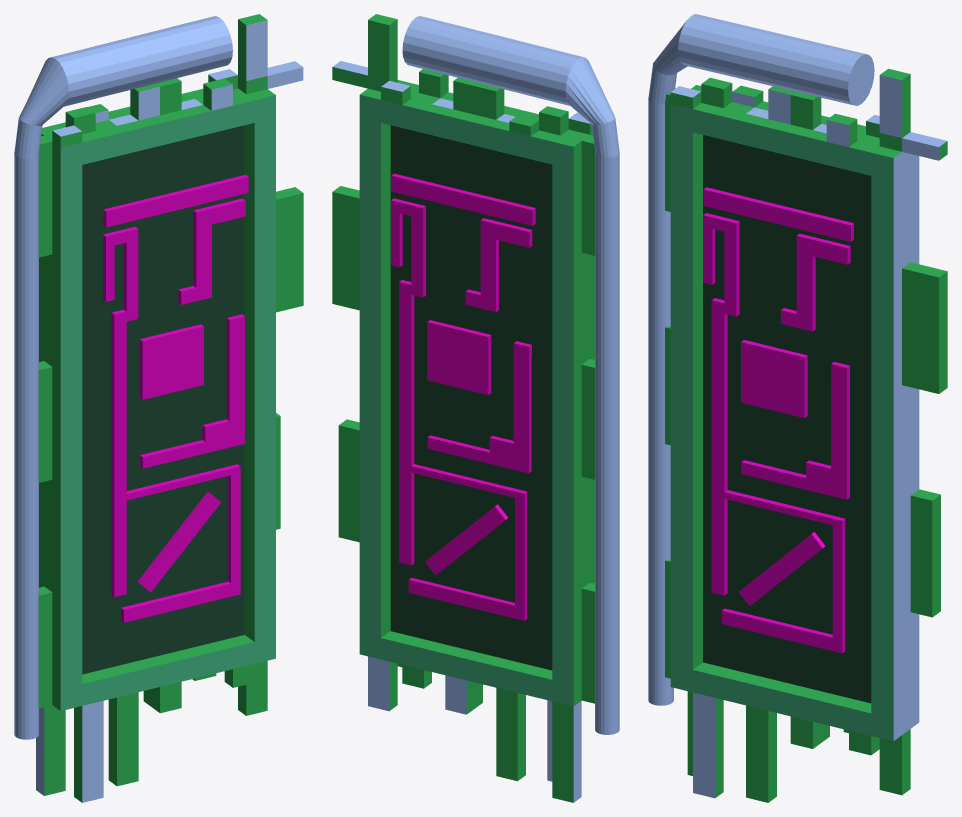
File: 浮き広告A.fbx
The picture shows the model from 3 angles, left to right: view 1: azimuth 30°, elevation 25°; view 2: azimuth 150°, elevation 25°; view 3: azimuth 330°, elevation 25°; orthographic projection. The views are drawn at different scales.
Parts seen in each view (by area): view 1: pCube1, pCube3, pCylinder1; view 2: pCube1, pasted__pCube3, pCylinder1; view 3: pCube1, pCube3, pCylinder1.
Boxes of the visible parts, x1,y1,x2,y2 form: pCube1: (36,14,303,802); pCube3: (103,175,248,622); pCylinder1: (14,16,232,739); pCube1: (332,14,595,802); pasted__pCube3: (391,173,535,620); pCylinder1: (402,16,619,734); pCube1: (665,68,947,802); pCube3: (703,187,853,653); pCylinder1: (648,14,874,705).
Bounding box in the file's own units: 1.32 × 3.28 × 0.3008.
